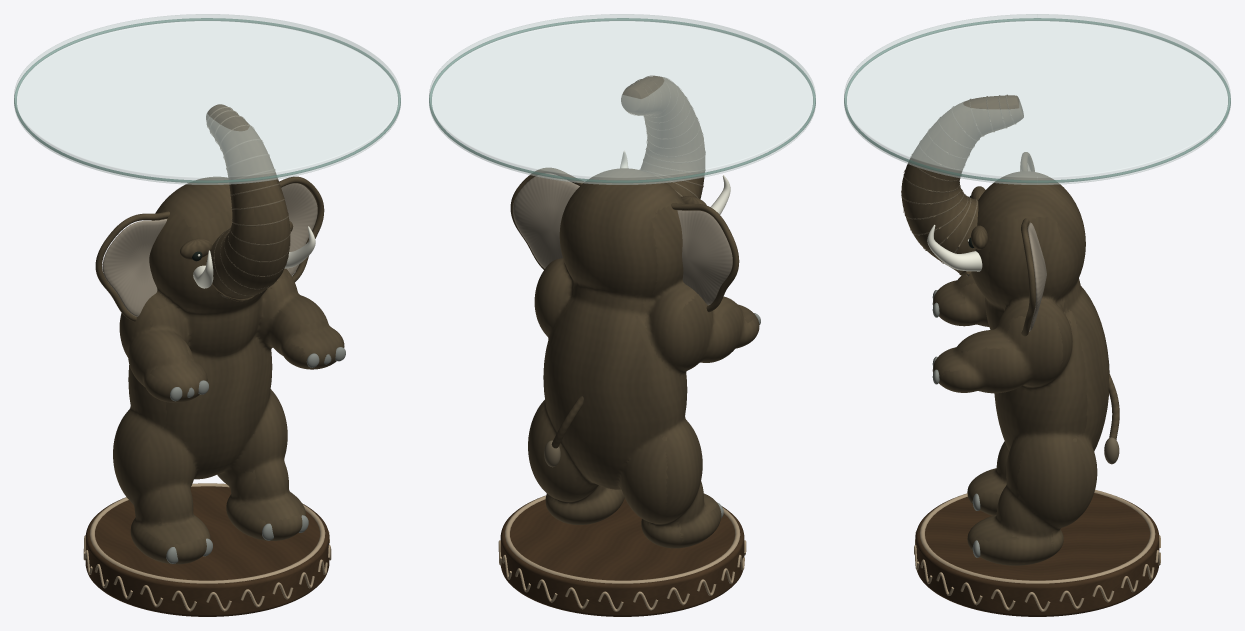
Rendered from design-toscano-elephant-table.glb.
3 renders of one model, left to right at view 1: azimuth 30°, elevation 25°; view 2: azimuth 150°, elevation 25°; view 3: azimuth 270°, elevation 25°, orthographic.
Visible parts, largest first — view 1: Clear 3/8 inch glass tabletop, Rounded elephant torso, Ornate circular pedestal, Upraised curved trunk, Broad scalloped ear, Pencil polished tabletop perimeter, Broad scalloped ear.001, Plinth upper rolled edge, Raised ear rim, Raised ear rim.001; view 2: Rounded elephant torso, Clear 3/8 inch glass tabletop, Ornate circular pedestal, Upraised curved trunk, Broad scalloped ear.001, Broad scalloped ear, Pencil polished tabletop perimeter, Plinth upper rolled edge, Raised ear rim, Raised ear rim.001; view 3: Clear 3/8 inch glass tabletop, Rounded elephant torso, Ornate circular pedestal, Upraised curved trunk, Pencil polished tabletop perimeter, Plinth upper rolled edge, Swept ivory tusk.001, Broad scalloped ear.001, Raised ear rim.001.
Part boxes in pixels (x1,y1,x2,y2): Clear 3/8 inch glass tabletop: [14, 14, 400, 184]; Rounded elephant torso: [113, 176, 344, 564]; Ornate circular pedestal: [85, 486, 329, 616]; Upraised curved trunk: [206, 104, 290, 299]; Broad scalloped ear: [102, 219, 167, 316]; Pencil polished tabletop perimeter: [14, 18, 400, 183]; Broad scalloped ear.001: [281, 183, 317, 275]; Plinth upper rolled edge: [89, 483, 325, 583]; Raised ear rim: [95, 211, 169, 321]; Raised ear rim.001: [279, 176, 324, 281]; Rounded elephant torso: [528, 168, 759, 548]; Clear 3/8 inch glass tabletop: [429, 14, 815, 184]; Ornate circular pedestal: [500, 498, 744, 616]; Upraised curved trunk: [621, 76, 705, 198]; Broad scalloped ear.001: [513, 173, 579, 268]; Broad scalloped ear: [677, 210, 732, 305]; Pencil polished tabletop perimeter: [429, 18, 815, 183]; Plinth upper rolled edge: [504, 495, 740, 583]; Raised ear rim: [671, 203, 739, 312]; Raised ear rim.001: [510, 167, 584, 269]; Clear 3/8 inch glass tabletop: [844, 14, 1230, 184]; Rounded elephant torso: [933, 171, 1109, 565]; Ornate circular pedestal: [915, 493, 1159, 616]; Upraised curved trunk: [901, 95, 1023, 273]; Pencil polished tabletop perimeter: [844, 18, 1230, 183]; Plinth upper rolled edge: [919, 490, 1155, 583]; Swept ivory tusk.001: [927, 224, 982, 271]; Broad scalloped ear.001: [1027, 222, 1046, 331]; Raised ear rim.001: [1021, 218, 1035, 336].
Bounding box in the file's own units: 0.4064 × 0.5461 × 0.4064.
10 materials, 2 textured.
